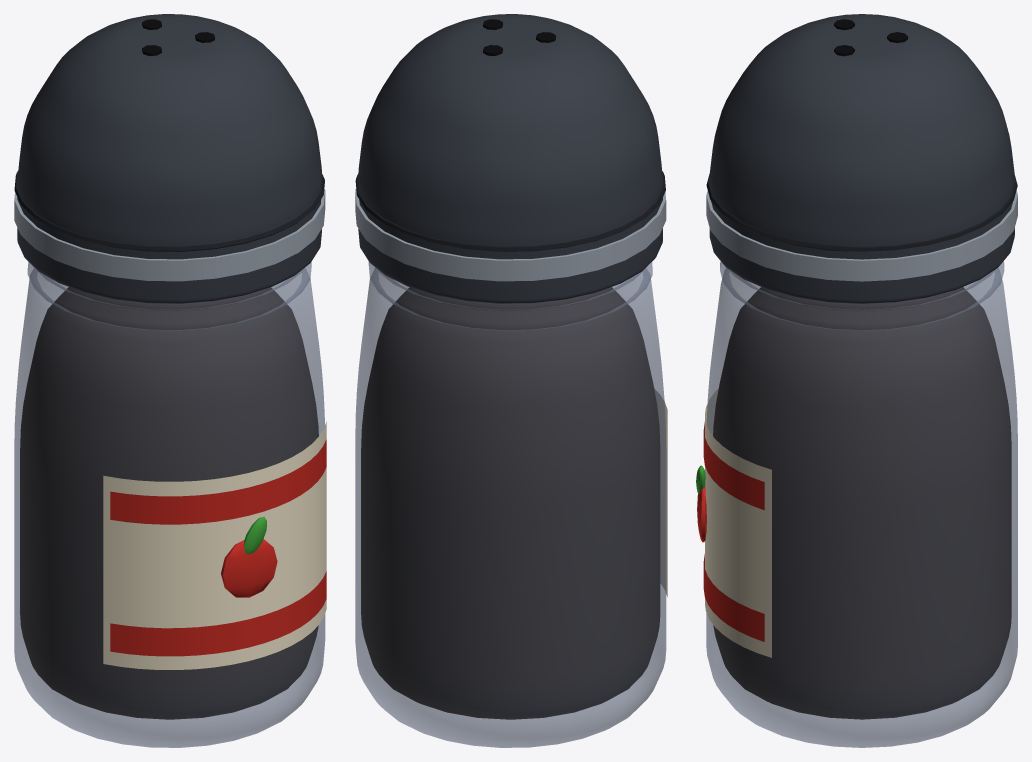
Rendered from pepper_shaker.glb.
3 renders of one model, left to right at view 1: azimuth 30°, elevation 25°; view 2: azimuth 150°, elevation 25°; view 3: azimuth 270°, elevation 25°, orthographic.
Parts seen in each view (by area): view 1: PepperShaker; view 2: PepperShaker; view 3: PepperShaker.
Boxes of the visible parts, bbox=[...] form: PepperShaker: bbox=[14, 14, 326, 747]; PepperShaker: bbox=[355, 14, 667, 747]; PepperShaker: bbox=[696, 14, 1017, 747].
Size of the model in its own units: 3 by 7.03 by 3.1.
